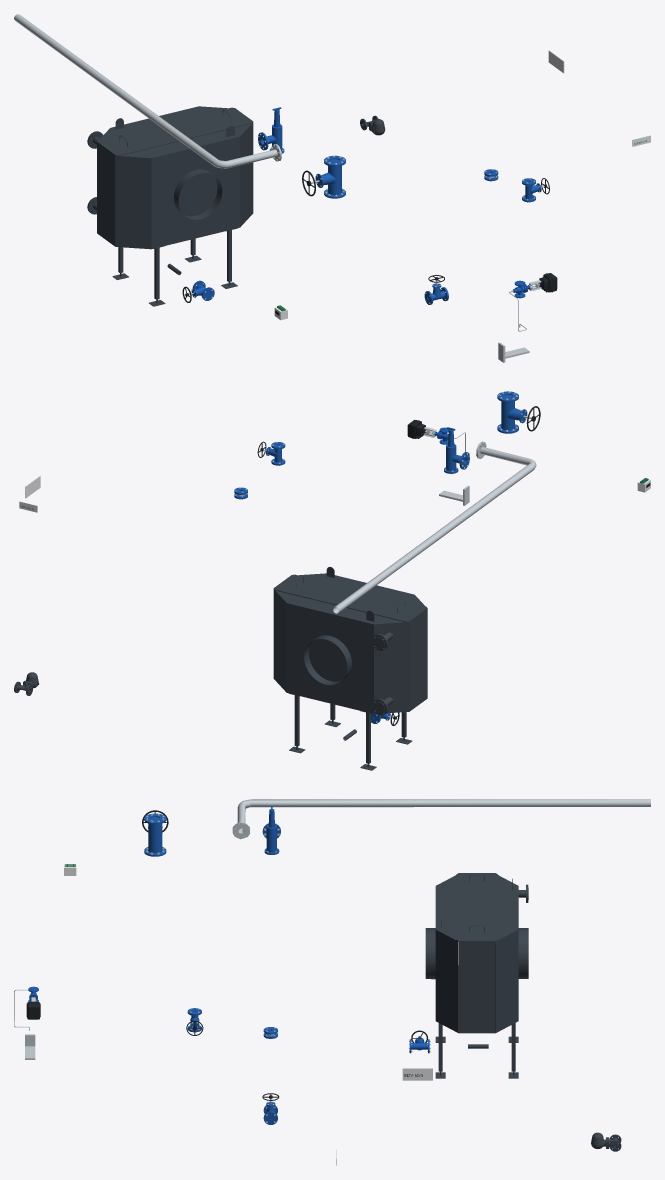
The picture shows the model from 3 angles, top to bottom: view 1: azimuth 30°, elevation 25°; view 2: azimuth 150°, elevation 25°; view 3: azimuth 270°, elevation 25°; orthographic projection. The views are drawn at different scales.
Parts seen in each view (by area): view 1: economizer CAD solid 0, economizer CAD solid 3, economizer CAD solid 1, safety_vent_1 / steel, steam_manual / blue, bcv925 / bcv925_0.npz, safety_2 / blue; view 2: economizer CAD solid 0, economizer CAD solid 3, economizer CAD solid 2, safety_vent_1 / steel, steam_manual / blue, safety_2 / blue, bcv925 / bcv925_0.npz; view 3: economizer CAD solid 3, safety_vent_1 / steel, economizer CAD solid 0, steam_manual / blue, safety_2 / blue.
Boxes of the visible parts, x1,y1,x2,y2 form: economizer CAD solid 0: (112,136,239,306); economizer CAD solid 3: (97,106,253,246); economizer CAD solid 1: (115,156,151,249); safety_vent_1 / steel: (14,14,281,168); steam_manual / blue: (315,155,345,198); bcv925 / bcv925_0.npz: (513,273,557,298); safety_2 / blue: (258,107,284,153); economizer CAD solid 0: (286,603,412,770); economizer CAD solid 3: (273,567,427,711); economizer CAD solid 2: (371,622,409,715); safety_vent_1 / steel: (333,441,536,613); steam_manual / blue: (497,391,527,433); safety_2 / blue: (444,427,469,473); bcv925 / bcv925_0.npz: (407,419,448,444); economizer CAD solid 3: (435,873,518,1033); safety_vent_1 / steel: (232,799,650,839); economizer CAD solid 0: (425,928,528,1078); steam_manual / blue: (144,813,166,856); safety_2 / blue: (262,806,280,854).
Size of the model in its own units: 5.8 by 2.71 by 6.28.
